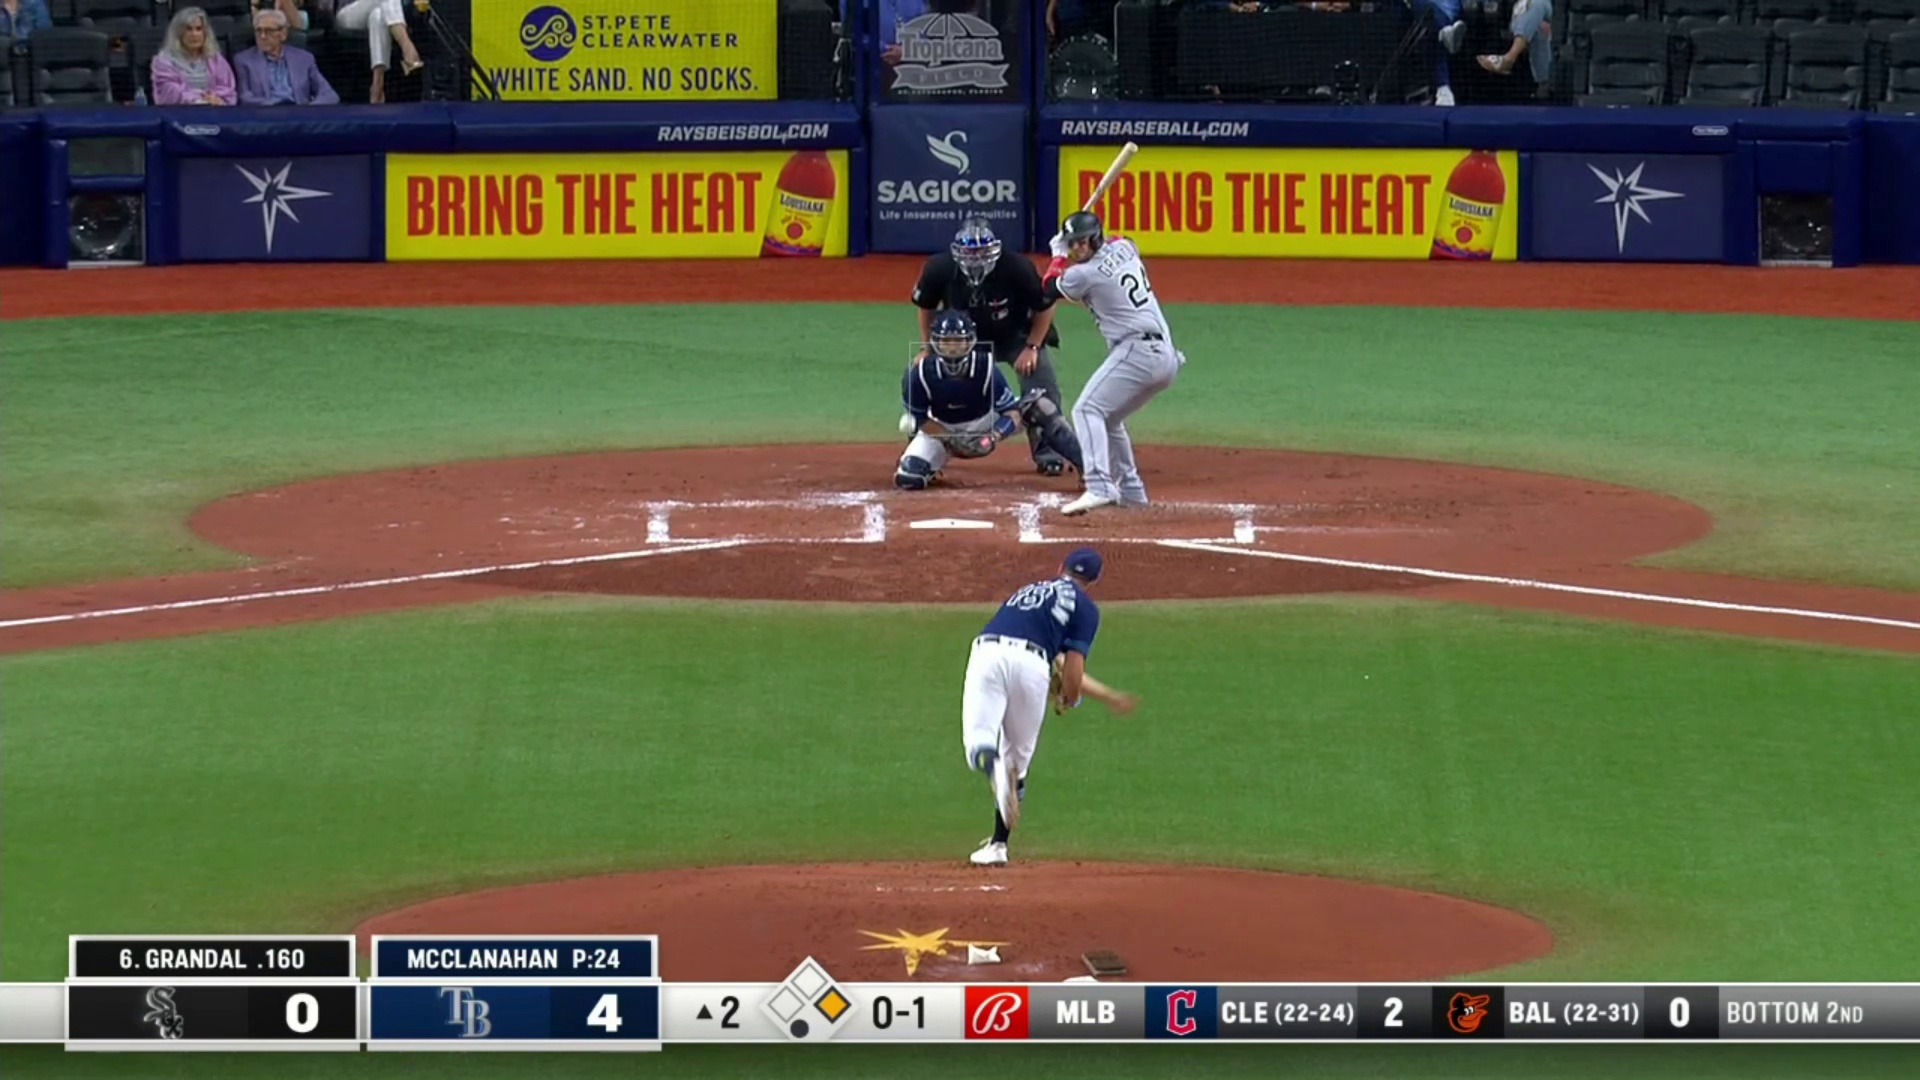baseball: (898, 411, 916, 433)
